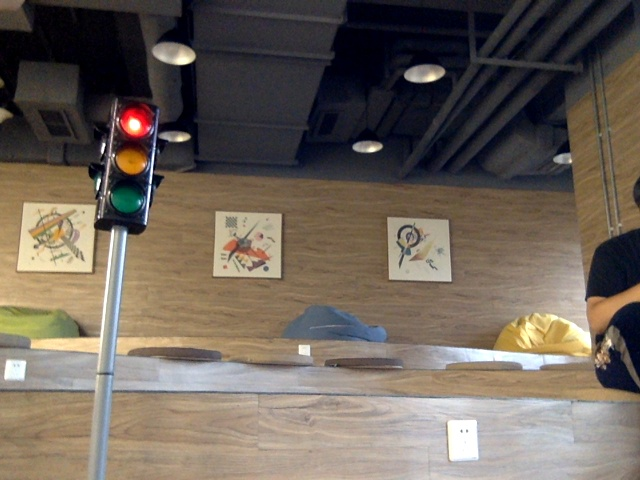red: (110, 101, 149, 218)
